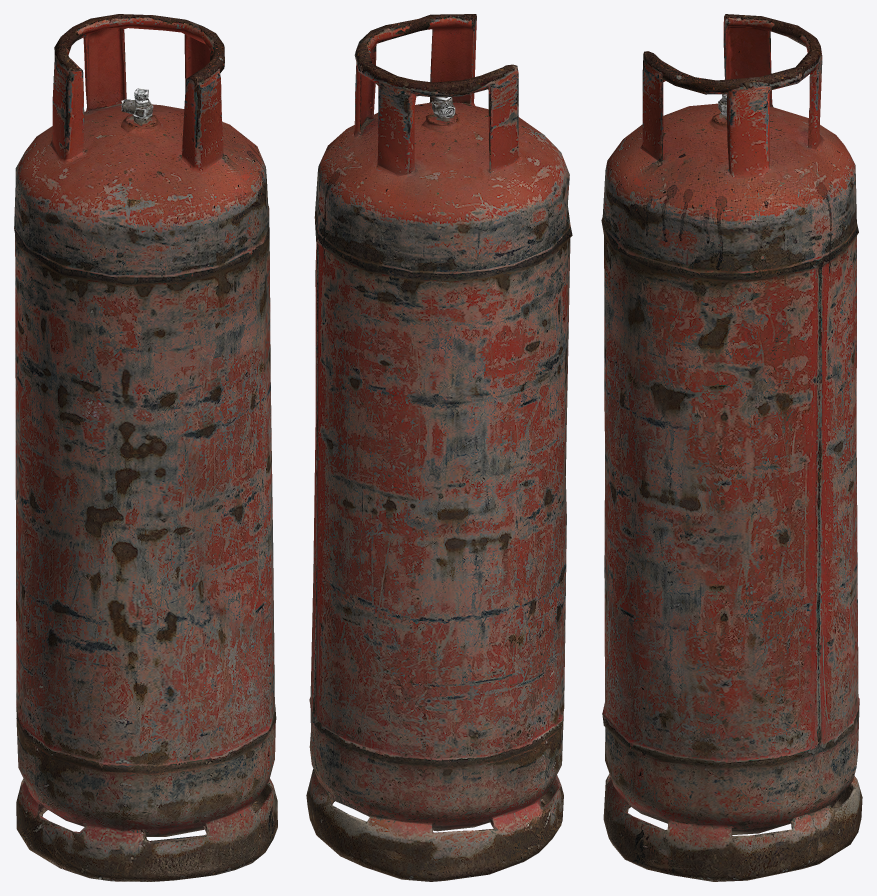
The model's file is SM_Ind_Fac_Tank_Gas_Metal_Worn_01.gltf.
The picture shows the model from 3 angles, left to right: view 1: azimuth 30°, elevation 25°; view 2: azimuth 150°, elevation 25°; view 3: azimuth 270°, elevation 25°; orthographic projection.
Parts seen in each view (by area): view 1: SM_Ind_Fac_Tank_Gas_Metal_Worn_01; view 2: SM_Ind_Fac_Tank_Gas_Metal_Worn_01; view 3: SM_Ind_Fac_Tank_Gas_Metal_Worn_01.
Boxes of the visible parts, x1,y1,x2,y2 form: SM_Ind_Fac_Tank_Gas_Metal_Worn_01: [14, 14, 277, 881]; SM_Ind_Fac_Tank_Gas_Metal_Worn_01: [306, 14, 572, 881]; SM_Ind_Fac_Tank_Gas_Metal_Worn_01: [601, 14, 862, 881].
Size of the model in its own units: 0.3783 by 1.24 by 0.373.
1 material, 1 textured.
